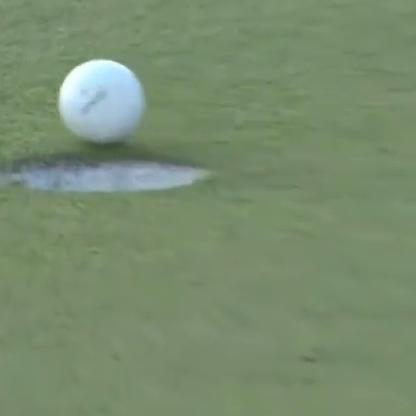golfball: (56, 56, 144, 144)
